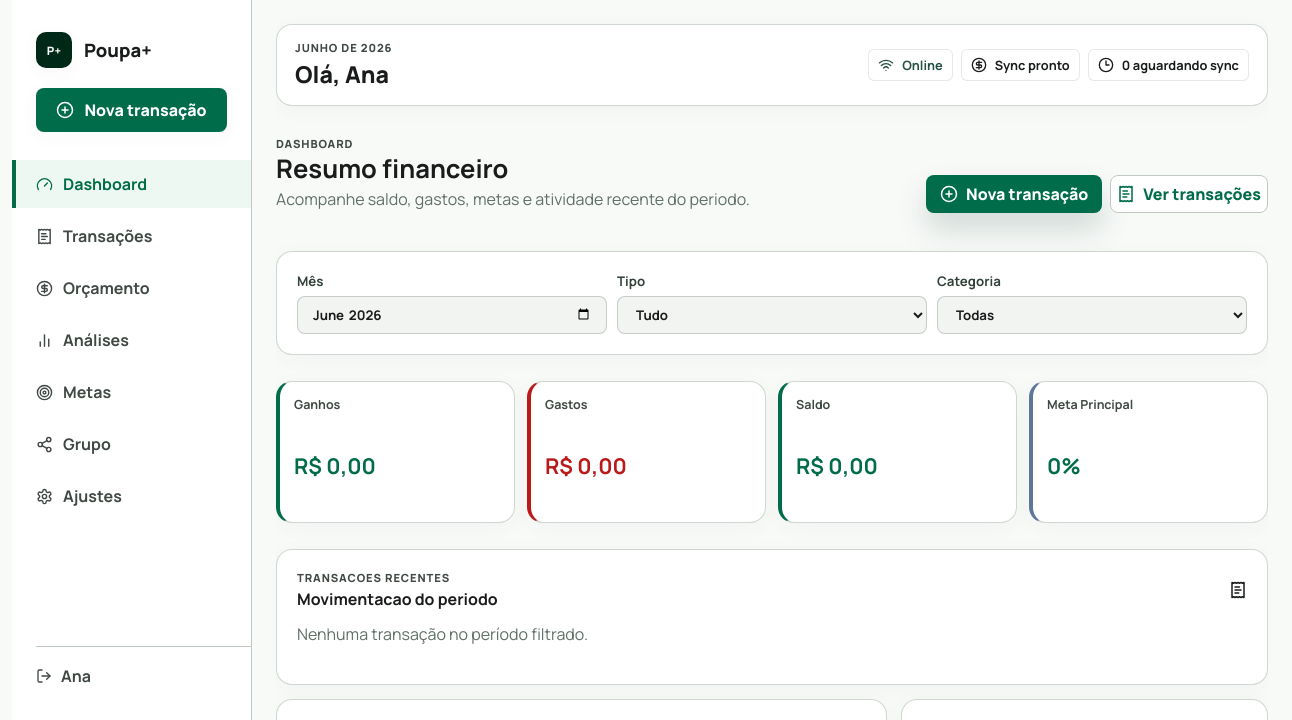
Dashboard › keeps budget in its own tab and planning tools under settings
Expected: the heading "orçamento mensal" is not shown
Expected: the text "Planejamento rapido" is not shown
Click the tab "Orçamento" at (132, 288), box [12,264,251,312]
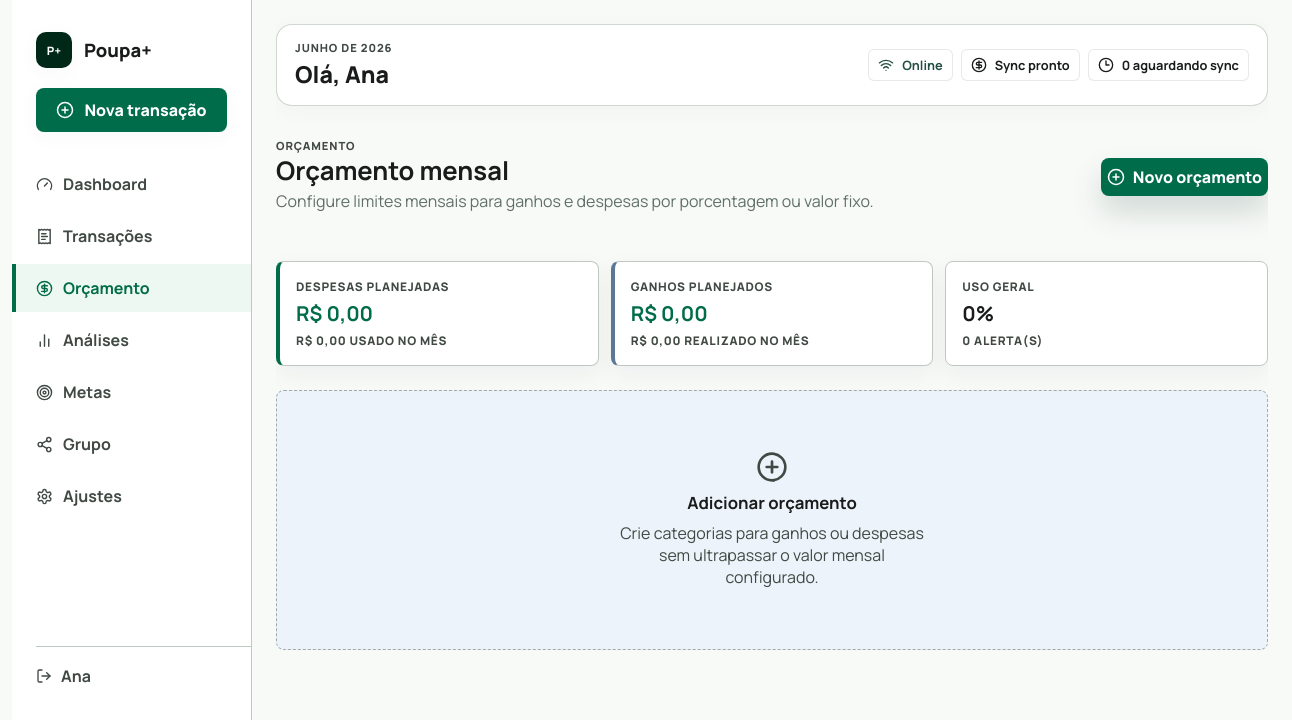
Expected: the text "Planejamento rapido" is not shown
Expected: the heading "Orçamento mensal" is shown, [276,153,509,188]
Click the tab "Ajustes" at (132, 496), box [12,472,251,520]
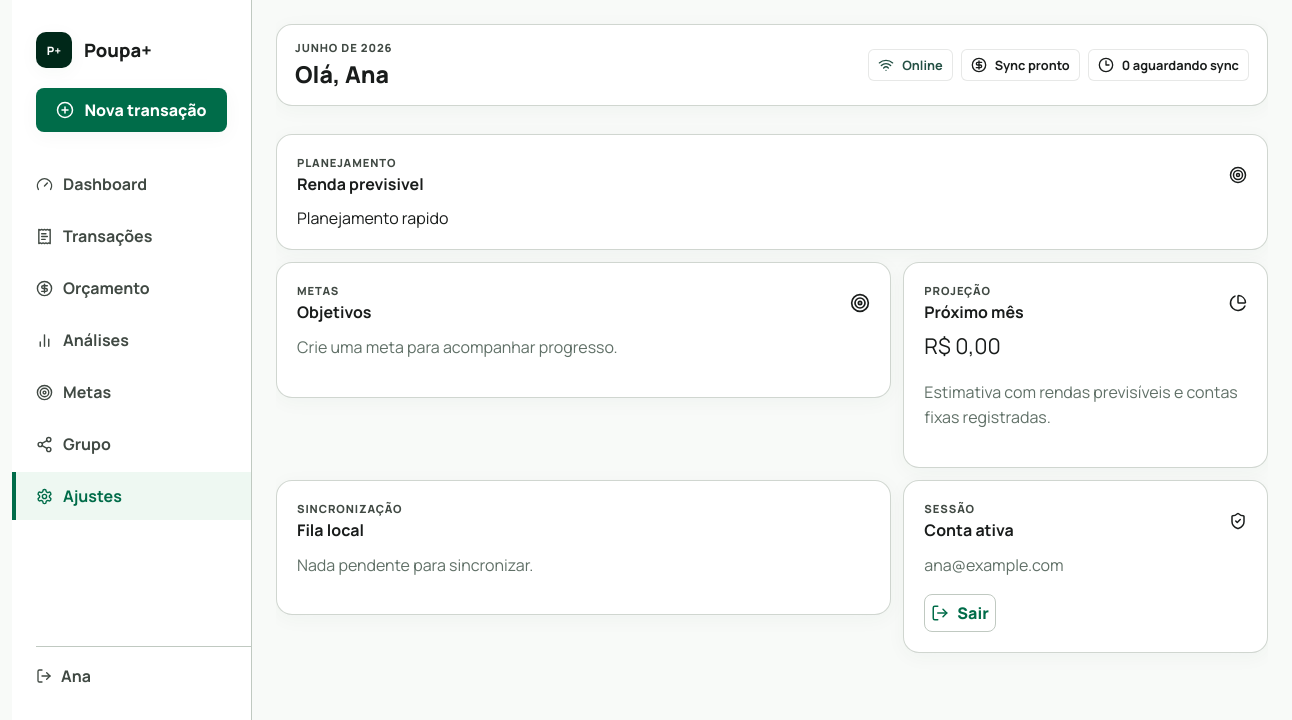
Expected: the text "Planejamento rapido" is shown, [297,207,448,229]
Expected: the heading "Orçamento mensal" is gone
